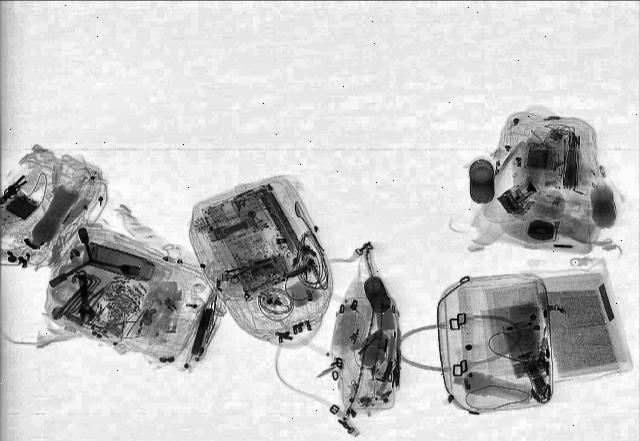Scissors: (221, 263, 259, 283)
Wrench: (70, 270, 98, 324)
